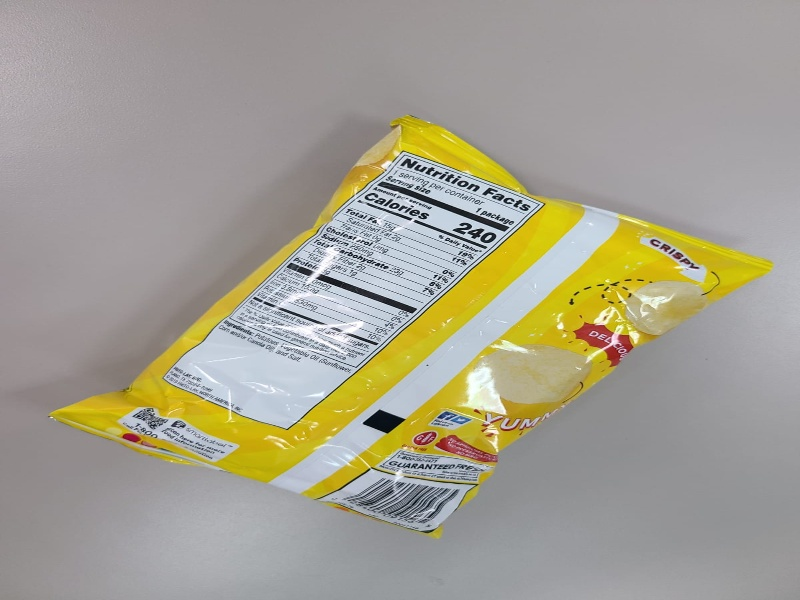lays: (48, 113, 774, 539)
